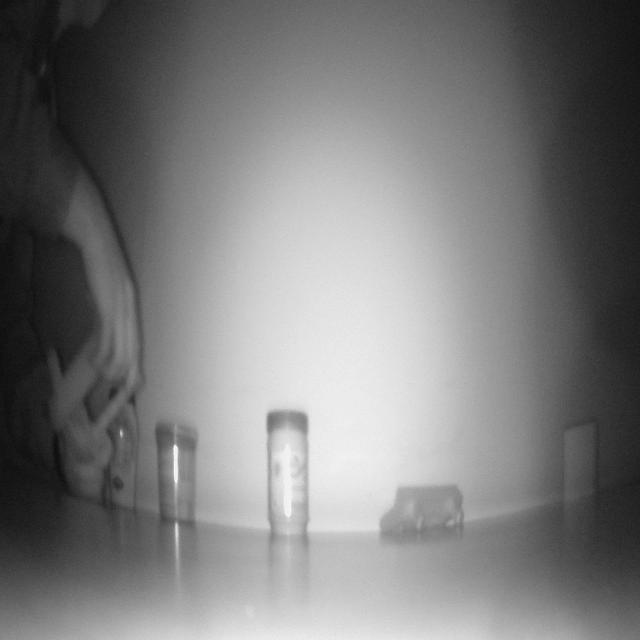targets: (265, 409, 311, 532), (380, 480, 464, 541), (154, 422, 198, 523), (106, 384, 141, 509), (559, 419, 597, 496)
